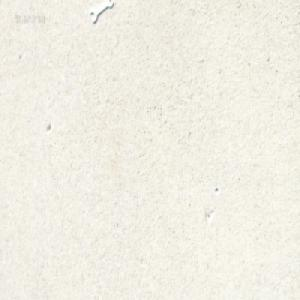Wrench: (89, 2, 112, 26)
